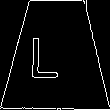L_N: (40, 29, 72, 80)
